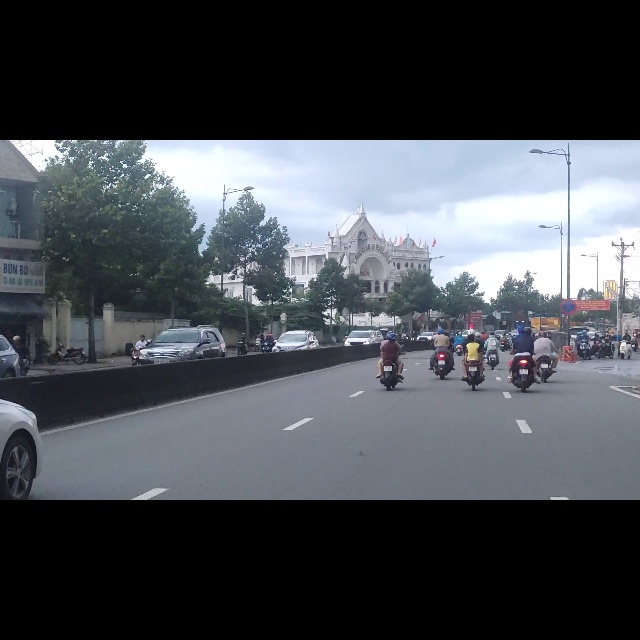bien_cam: (560, 283, 576, 310)
